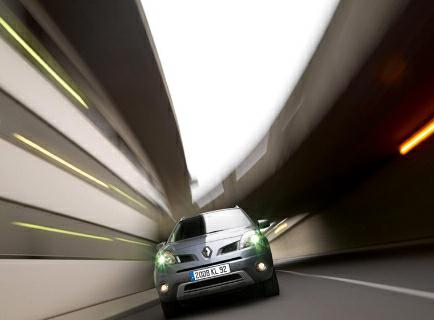雷诺-科雷傲: (153, 204, 283, 315)
